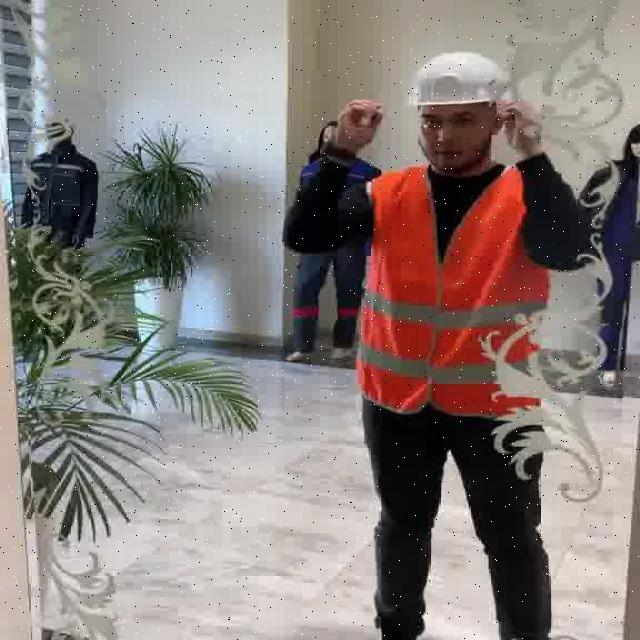Person: (277, 37, 574, 640)
Vest: (356, 159, 533, 415)
